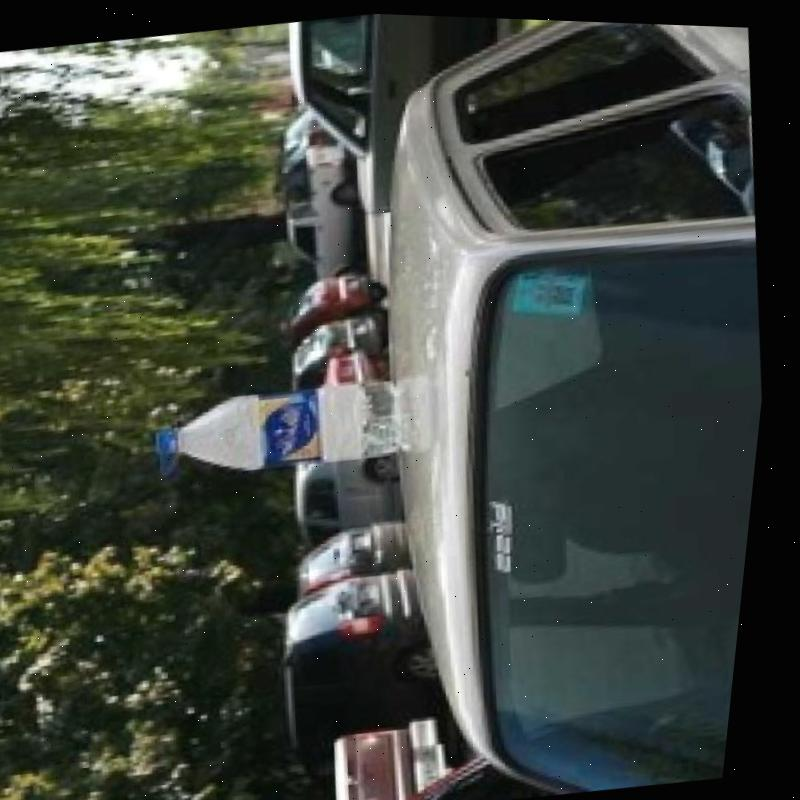botella: (157, 362, 426, 488)
